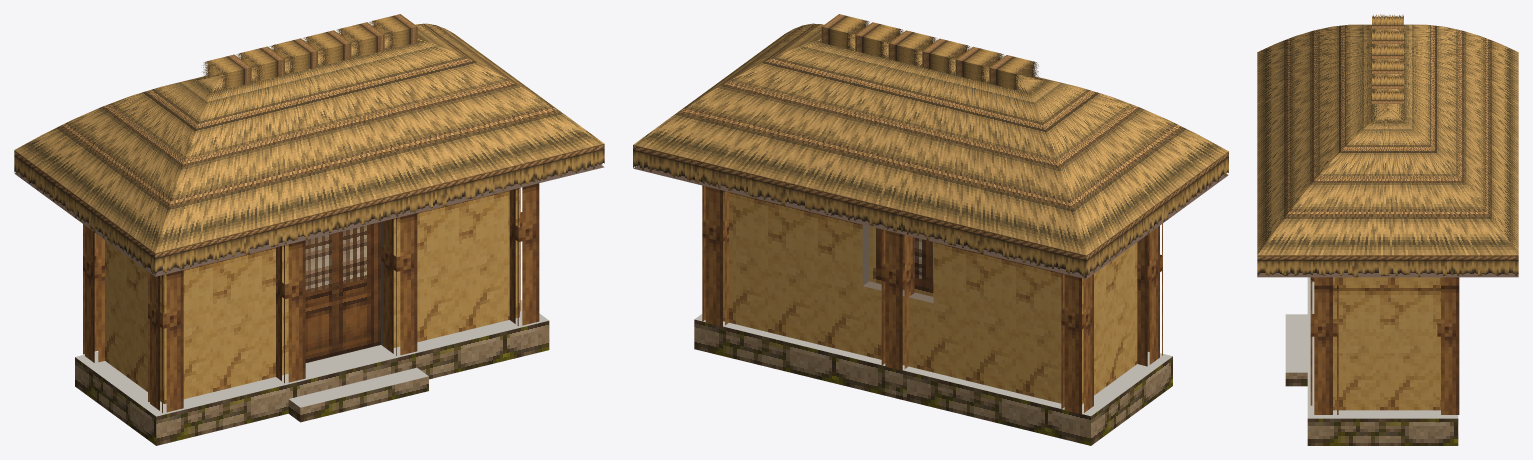
File: b_mud.glb
The picture shows the model from 3 angles, left to right: view 1: azimuth 30°, elevation 25°; view 2: azimuth 150°, elevation 25°; view 3: azimuth 270°, elevation 25°; orthographic projection. The views are drawn at different scales.
Parts seen in each view (by area): view 1: roof, plaster, post, stone, eave, door, stonetop, ridge, under; view 2: roof, plaster, post, stone, eave, ridge, stonetop, under, win, reveal; view 3: roof, plaster, post, eave, stone, stonetop, ridge, under.
Part boxes in pixels (bbox=[...]): roof: bbox=[14, 23, 604, 253]; plaster: bbox=[105, 188, 519, 403]; post: bbox=[83, 183, 539, 412]; stone: bbox=[75, 321, 549, 445]; eave: bbox=[14, 144, 604, 273]; door: bbox=[305, 222, 380, 362]; stonetop: bbox=[75, 300, 548, 416]; ridge: bbox=[202, 14, 417, 90]; under: bbox=[14, 164, 604, 276]; roof: bbox=[633, 23, 1228, 255]; plaster: bbox=[723, 190, 1137, 404]; post: bbox=[702, 185, 1162, 414]; stone: bbox=[694, 319, 1172, 445]; eave: bbox=[633, 145, 1228, 277]; ridge: bbox=[821, 14, 1038, 90]; stonetop: bbox=[694, 314, 1172, 416]; under: bbox=[633, 165, 1228, 279]; win: bbox=[869, 226, 933, 296]; reveal: bbox=[862, 225, 933, 303]; roof: bbox=[1257, 24, 1518, 255]; plaster: bbox=[1333, 277, 1440, 410]; post: bbox=[1310, 277, 1459, 414]; eave: bbox=[1257, 255, 1518, 277]; stone: bbox=[1285, 372, 1458, 445]; stonetop: bbox=[1285, 277, 1458, 418]; ridge: bbox=[1372, 14, 1403, 103]; under: bbox=[1257, 273, 1518, 277].
Size of the model in its own units: 48 by 32.84 by 26.1.
13 materials, 9 textured.
